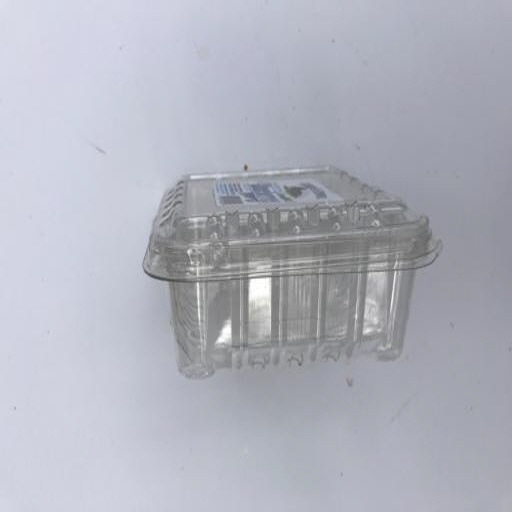Plastic_4: (141, 161, 443, 370)
